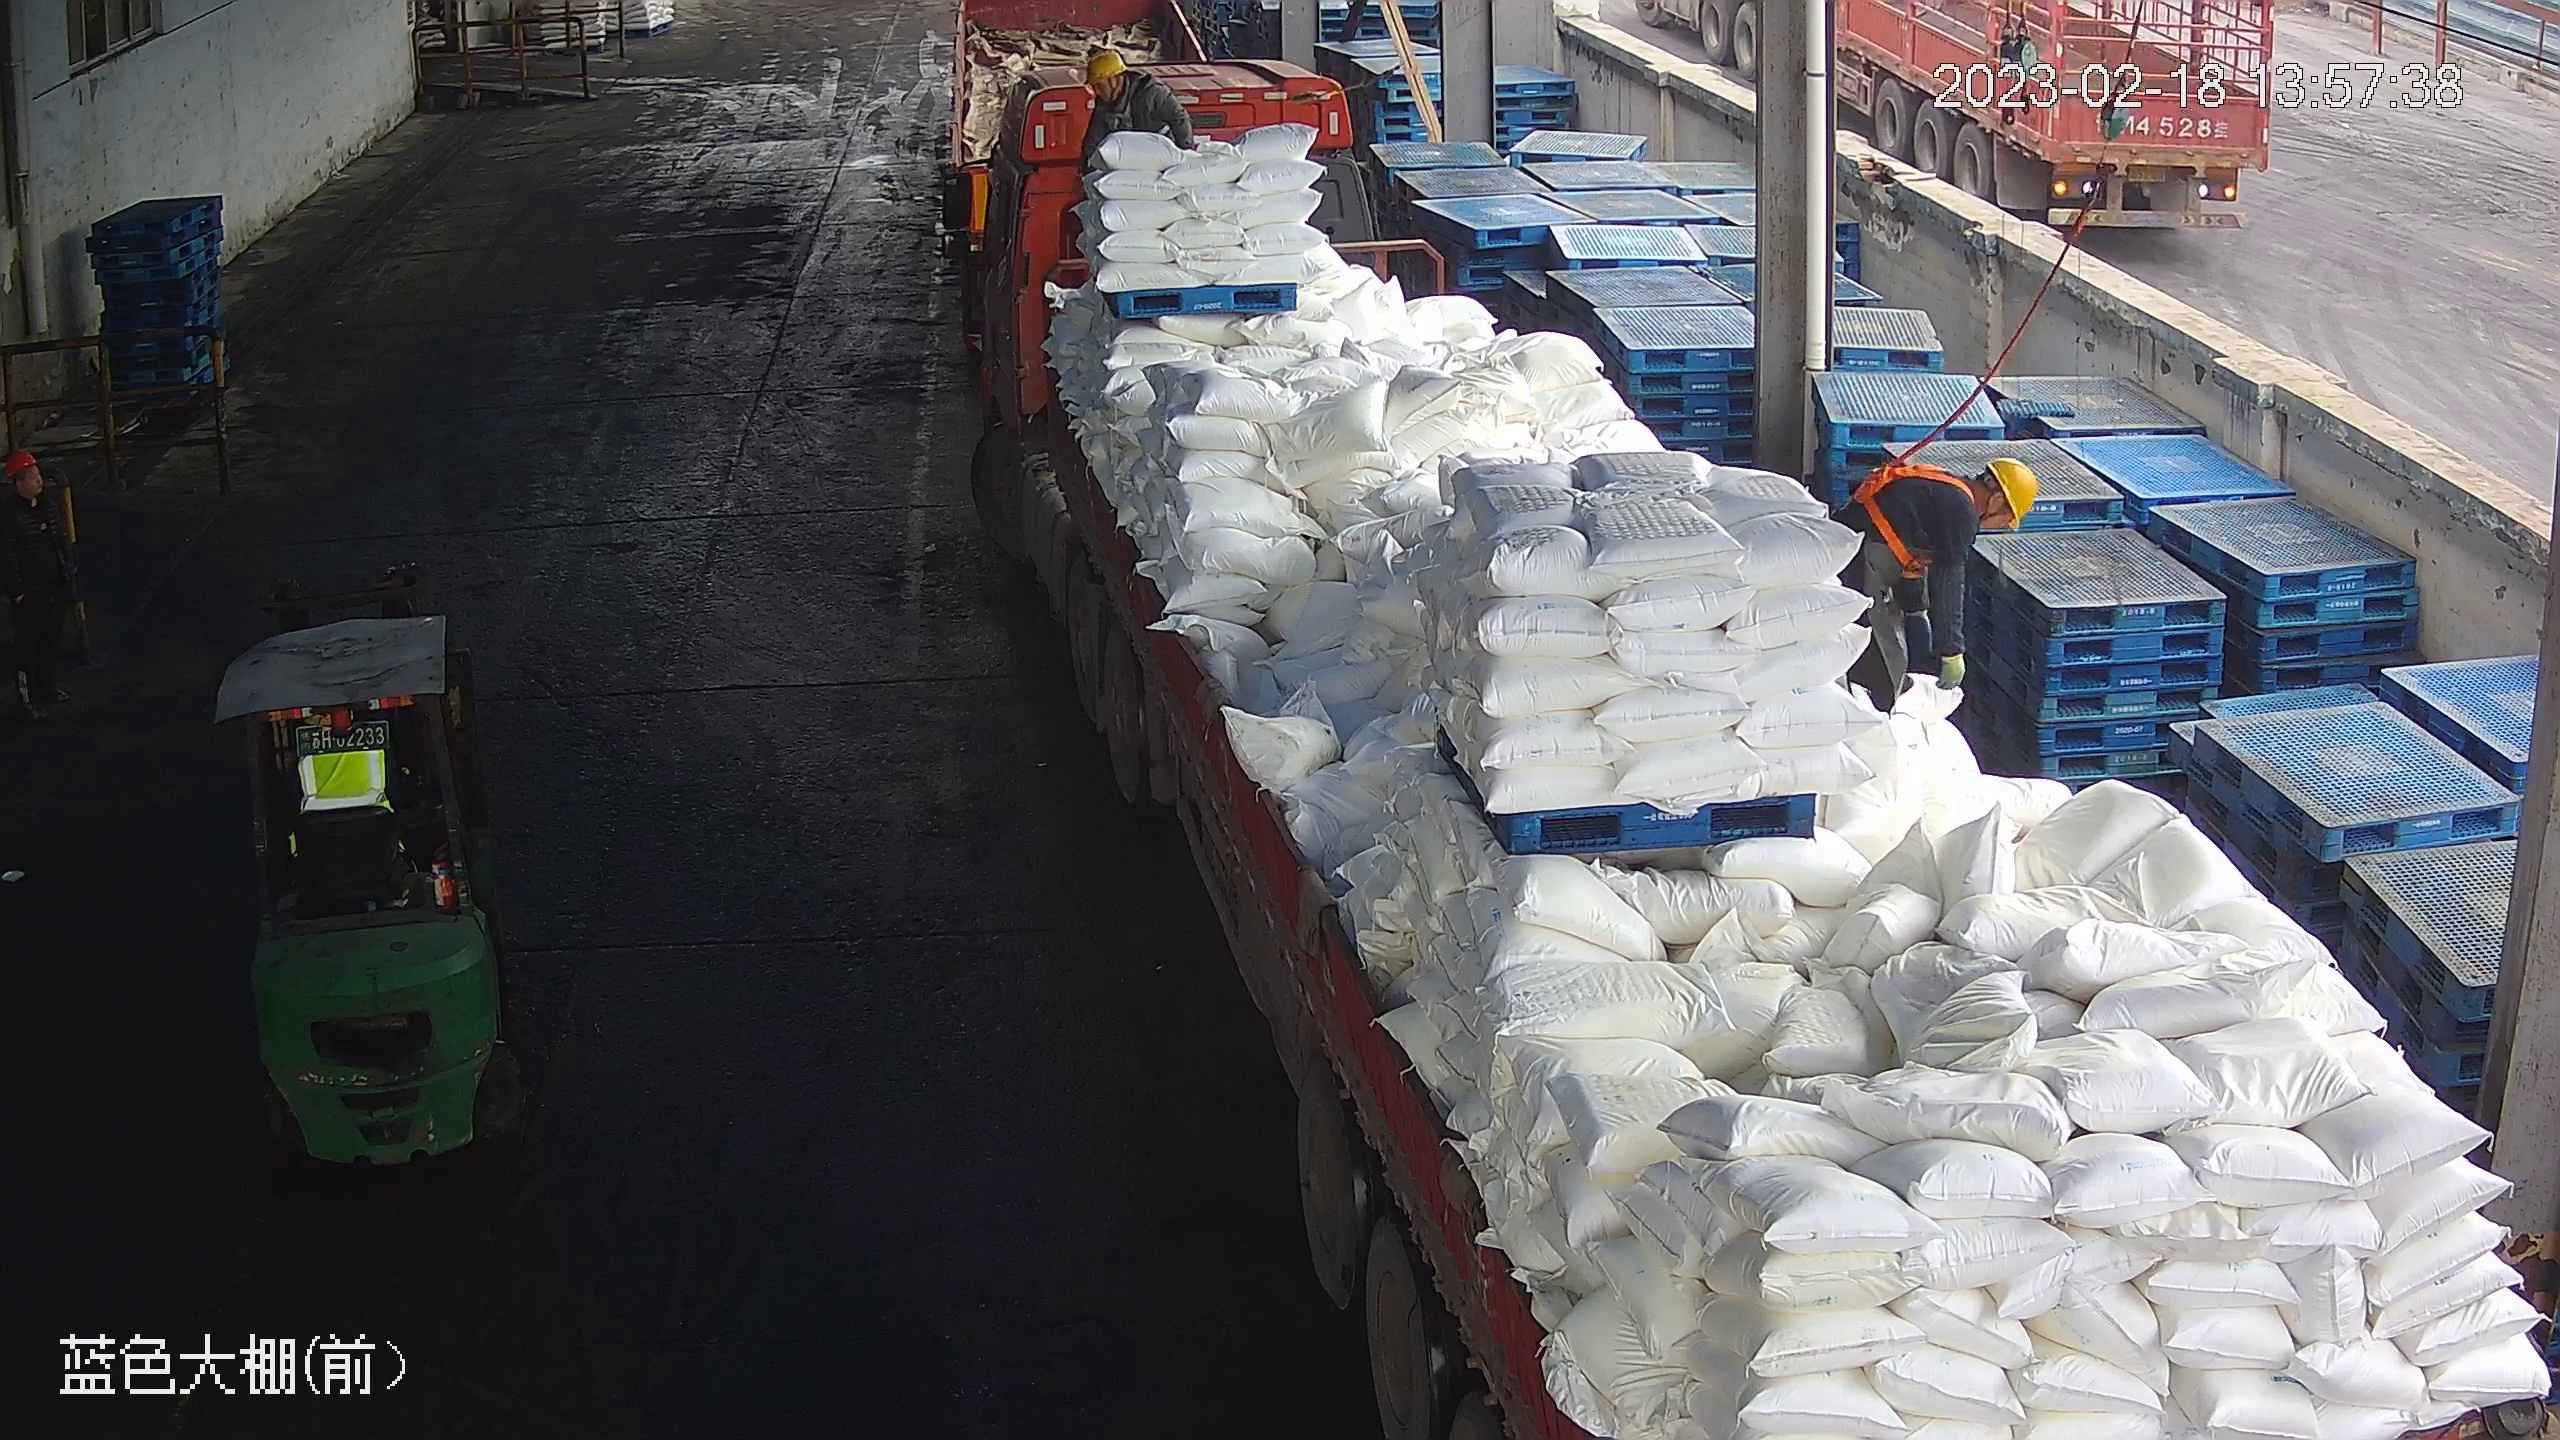belt: (1859, 442, 1969, 574), (1108, 78, 1159, 131)
head: (1905, 455, 2042, 561), (2, 452, 75, 543), (1087, 44, 1171, 108)
helmet: (1984, 454, 2044, 529), (1085, 43, 1128, 81), (6, 450, 35, 476)
people: (1827, 451, 2043, 721), (1, 450, 81, 721)
truck: (950, 55, 2557, 1440)
